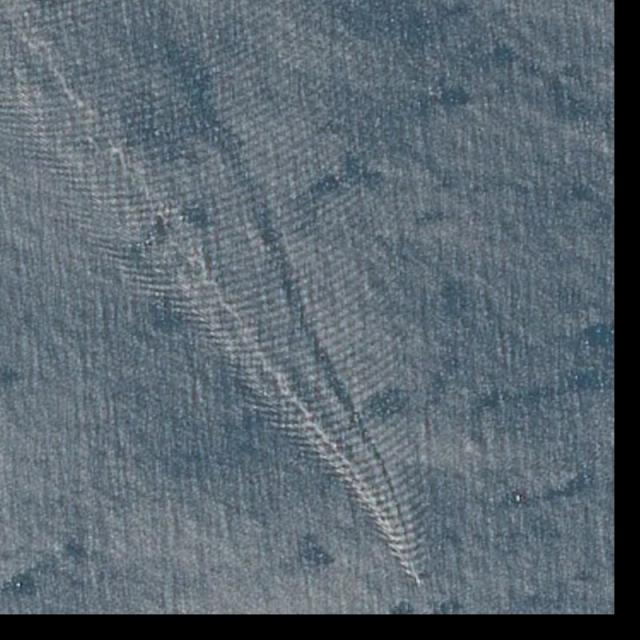ship: (414, 577, 422, 588), (516, 494, 522, 504)
